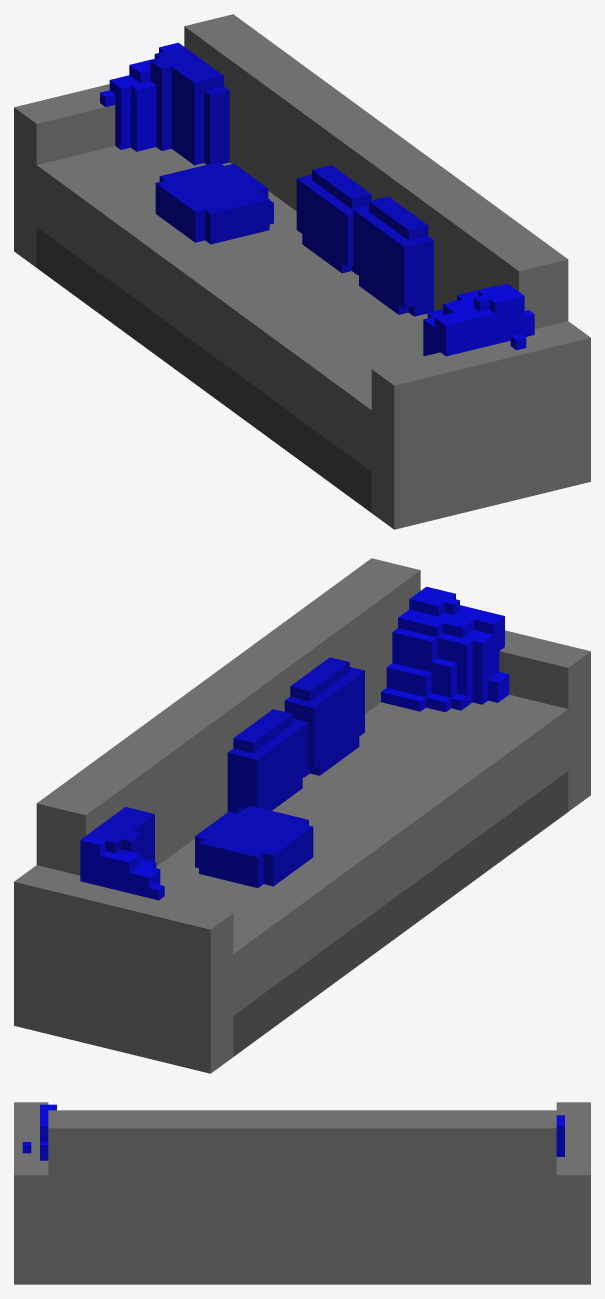
Rendered from couch.obj.
The picture shows the model from 3 angles, top to bottom: view 1: azimuth 30°, elevation 25°; view 2: azimuth 150°, elevation 25°; view 3: azimuth 270°, elevation 25°; orthographic projection. The views are drawn at different scales.
Parts seen in each view (by area): view 1: couch; view 2: couch; view 3: couch.
Part boxes in pixels (x1=…): couch: x1=14, y1=14, x2=590, y2=529; couch: x1=14, y1=558, x2=590, y2=1073; couch: x1=14, y1=1102, x2=590, y2=1284.
Size of the model in its own units: 20 by 20 by 67.
Materials: 1 (1 with a texture image).
